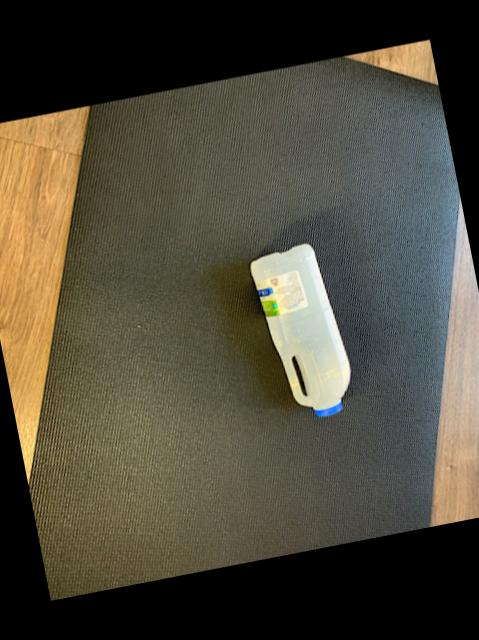plastic: (250, 242, 350, 414)
